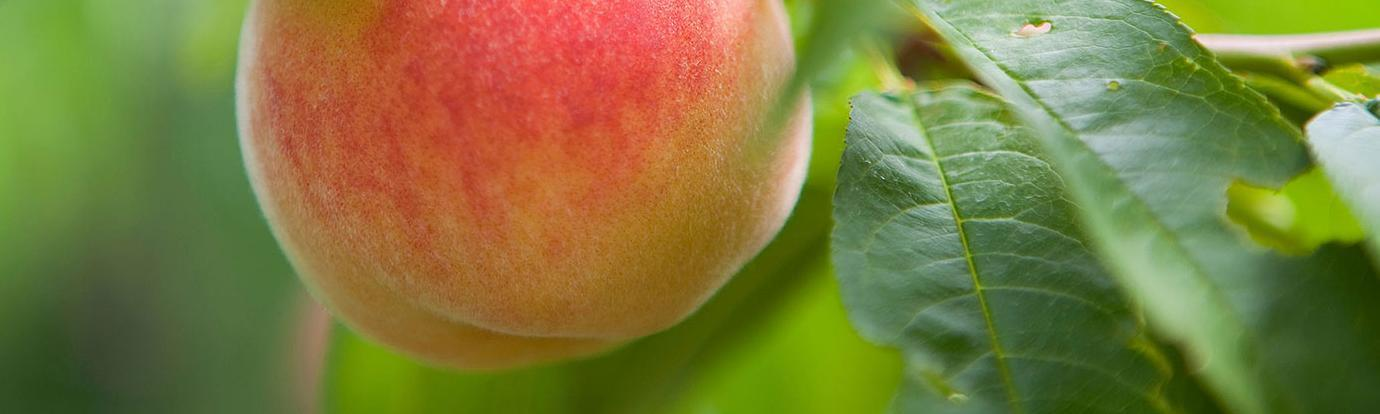apple: (233, 1, 810, 369)
